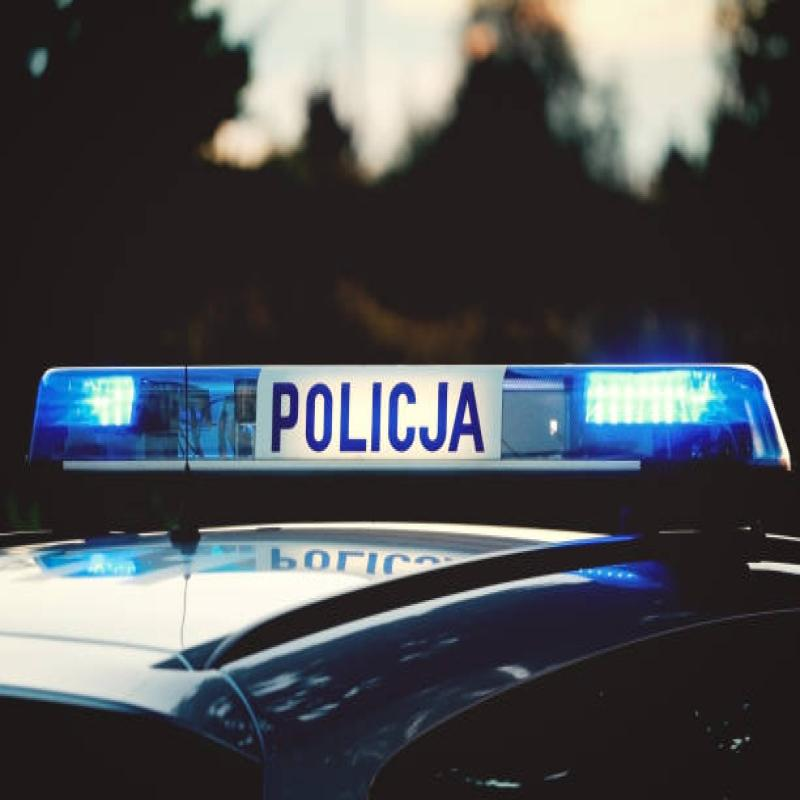AmbulanceSiren: (29, 307, 780, 538)
